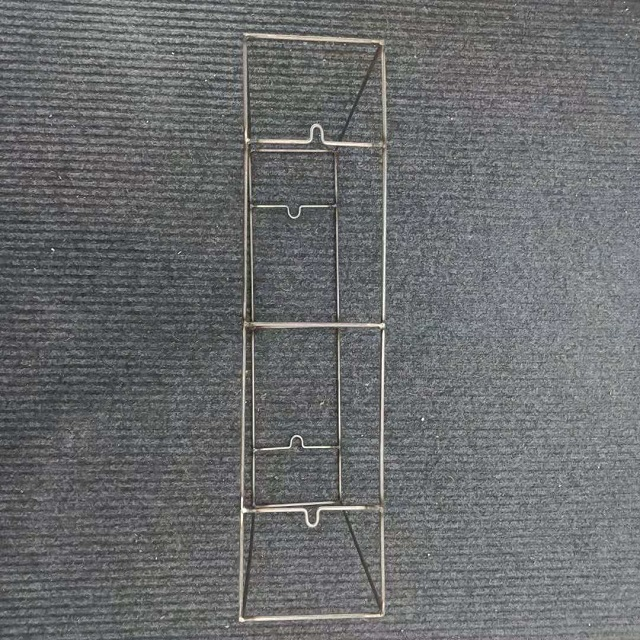curvedhole: (297, 500, 327, 534), (280, 200, 310, 228), (303, 122, 331, 150), (285, 431, 307, 455)
